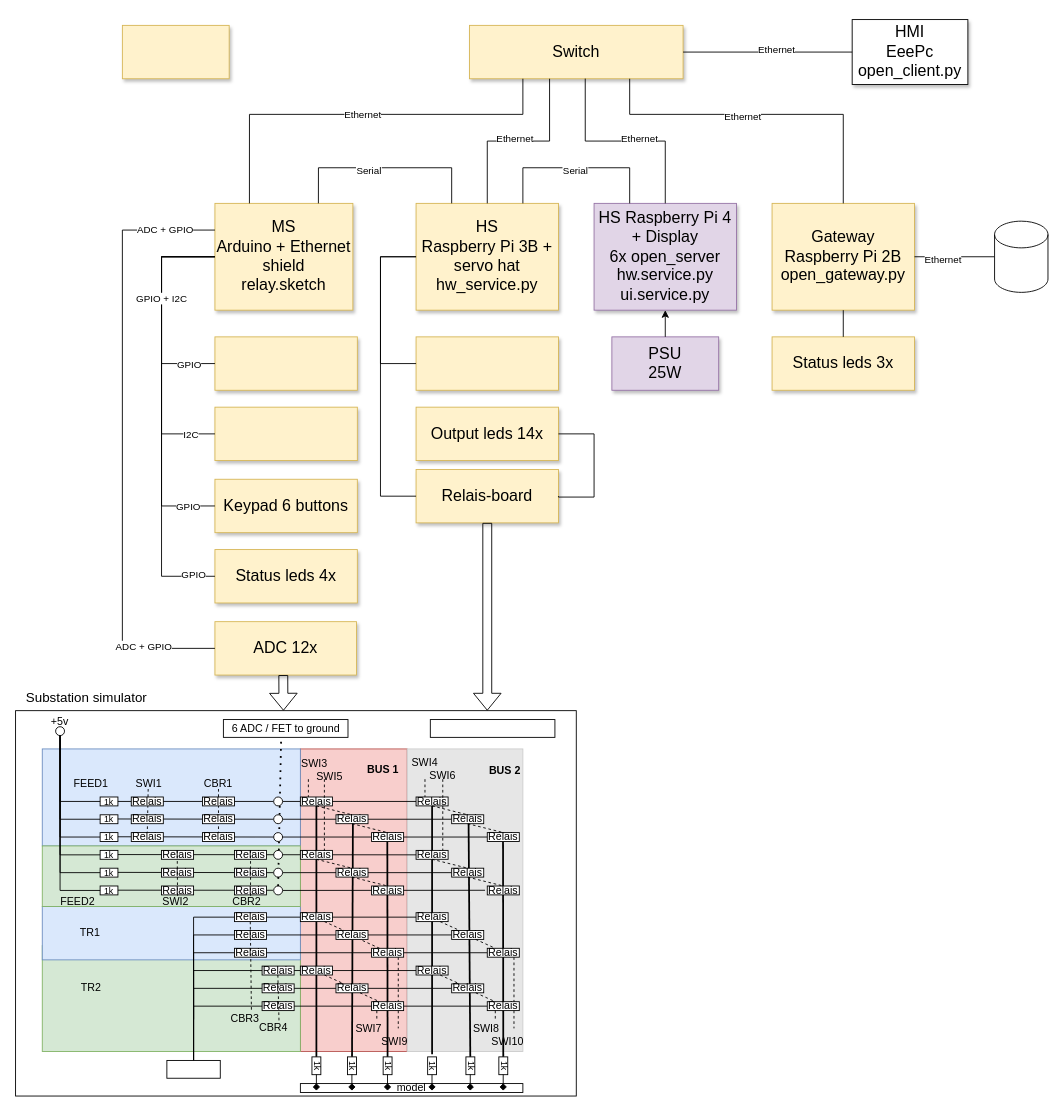
This 1064x1113 diagram has some shape labels left out. The centre of each missing label's shape, as x and y in pixels:
"10 Servo's" goes at (488,364).
"14 Output (SWI + CBR)" goes at (492,728).
"6 ADC" goes at (193,1069).
"LCD 16x2 characters" goes at (286,435).
"MS Cabinet Leds (10 green, 10 red)" goes at (286,364).
"PSU 20W" goes at (176,53).
"SCADA PC" goes at (1021,256).
